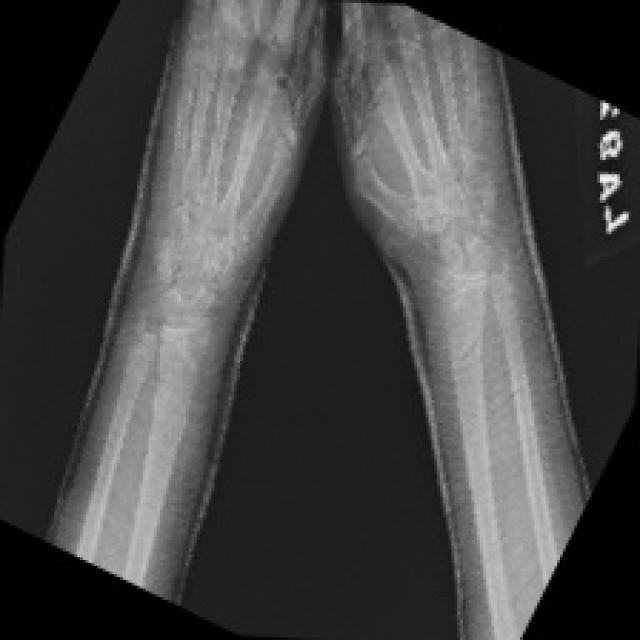fracture: (436, 304, 497, 418)
